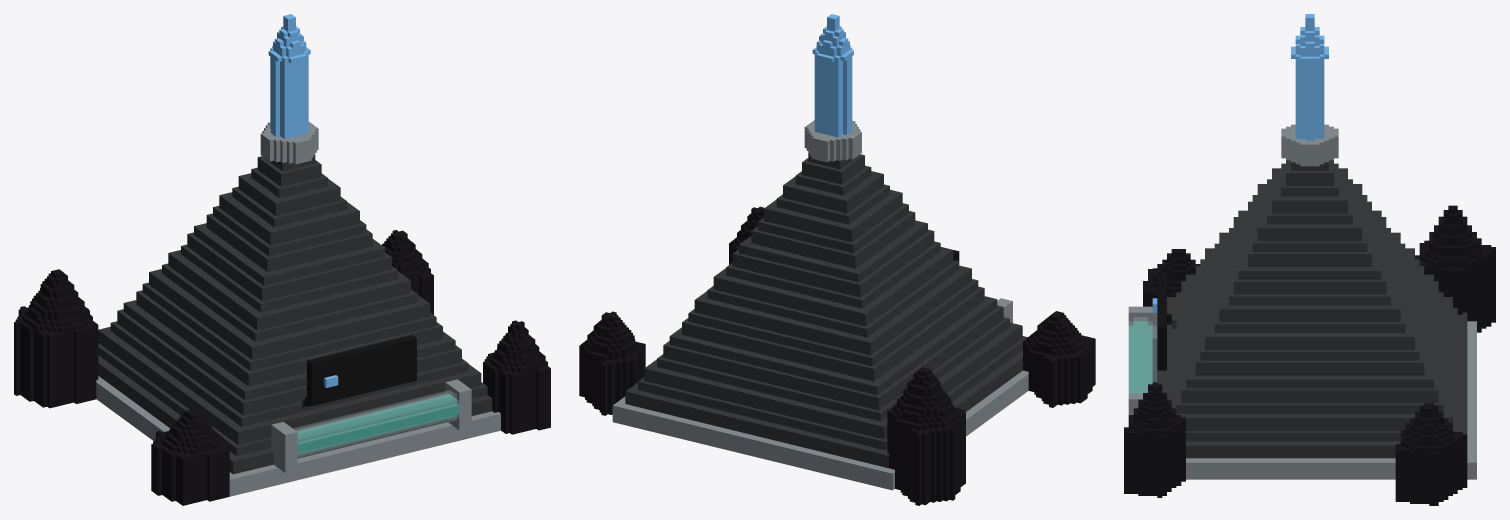
Rendered from psionic_transporter_beacon.glb.
The picture shows the model from 3 angles, left to right: view 1: azimuth 30°, elevation 25°; view 2: azimuth 150°, elevation 25°; view 3: azimuth 270°, elevation 25°; orthographic projection. The views are drawn at different scales.
Parts seen in each view (by area): view 1: psionic_transporter_beacon:compound; view 2: psionic_transporter_beacon:compound; view 3: psionic_transporter_beacon:compound.
Part boxes in pixels (x1,y1,x2,y2): psionic_transporter_beacon:compound: (14, 14, 550, 505); psionic_transporter_beacon:compound: (579, 14, 1095, 505); psionic_transporter_beacon:compound: (1124, 14, 1495, 505).
Bounding box in the file's own units: 0.388 × 0.364 × 0.312.
